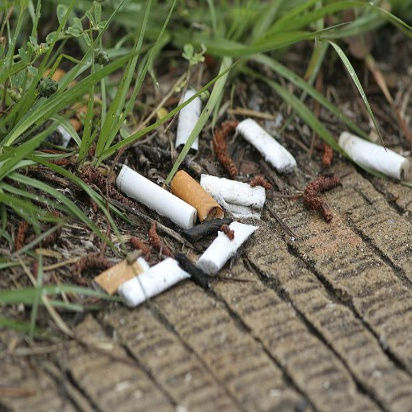cigarette: (109, 161, 198, 240), (227, 109, 301, 179), (330, 125, 410, 188), (199, 219, 263, 278), (119, 256, 186, 311), (171, 86, 212, 159)
